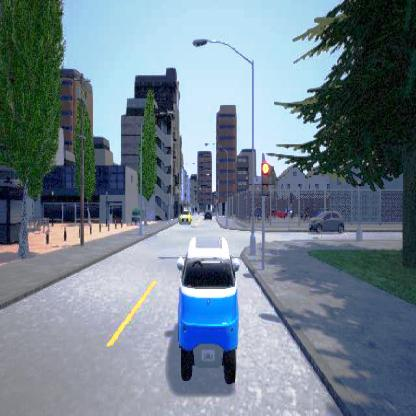vehicle: (176, 235, 238, 384), (308, 208, 344, 232), (177, 208, 190, 222), (202, 206, 212, 222)
